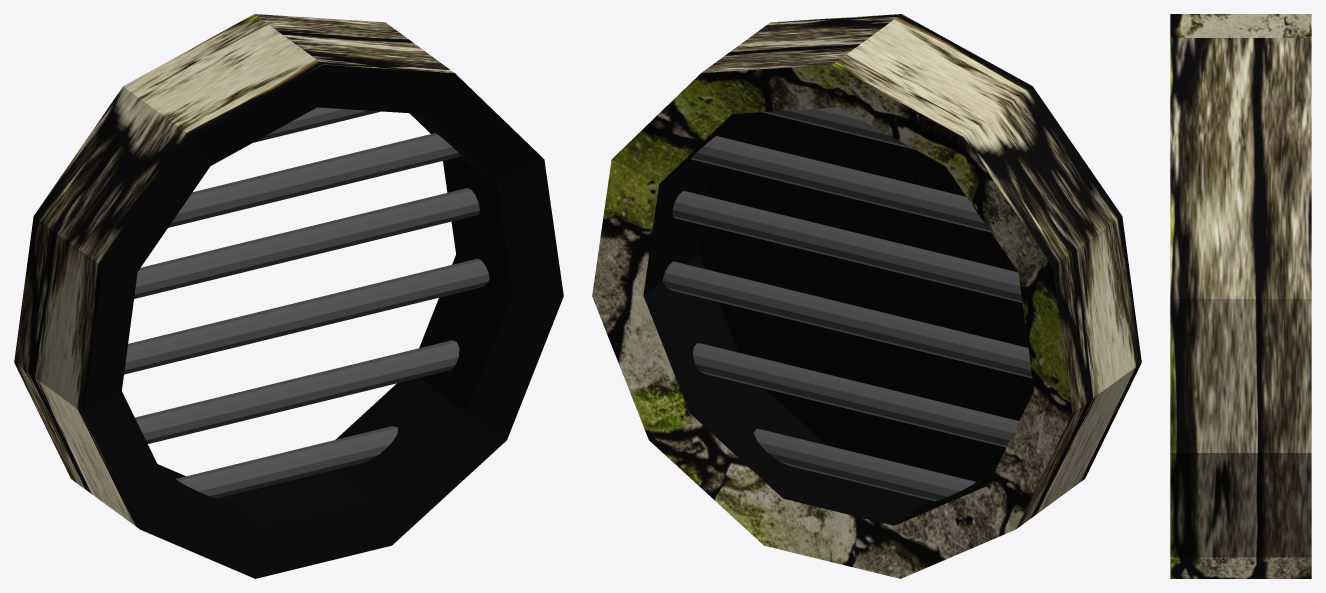
File: sewerWallDetail.fbx
3 views of the same model, side by side, from view 1: azimuth 30°, elevation 25°; view 2: azimuth 150°, elevation 25°; view 3: azimuth 270°, elevation 25° (orthographic).
Visible parts, largest first — view 1: Cylinder.006; view 2: Cylinder.006; view 3: Cylinder.006.
Boxes of the visible parts, x1,y1,x2,y2 form: Cylinder.006: (14,14,563,578); Cylinder.006: (592,14,1141,578); Cylinder.006: (1170,14,1311,578).
Bounding box in the file's own units: 198 × 196 × 49.55.
